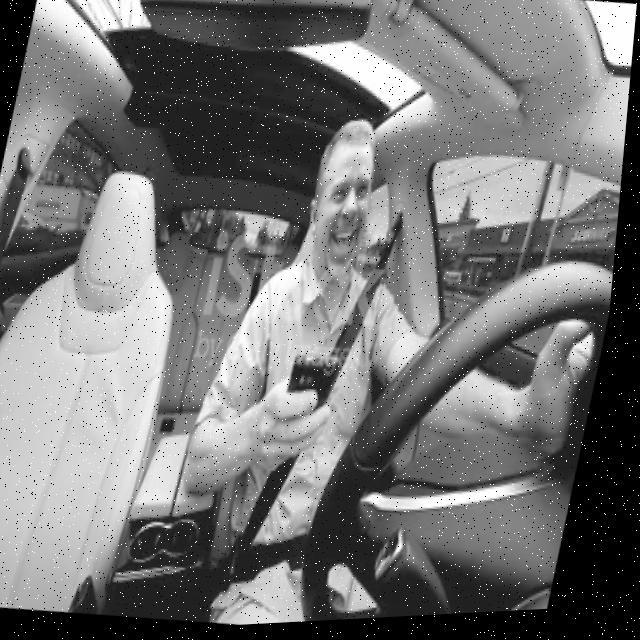PhoneCall: (284, 354, 350, 451)
